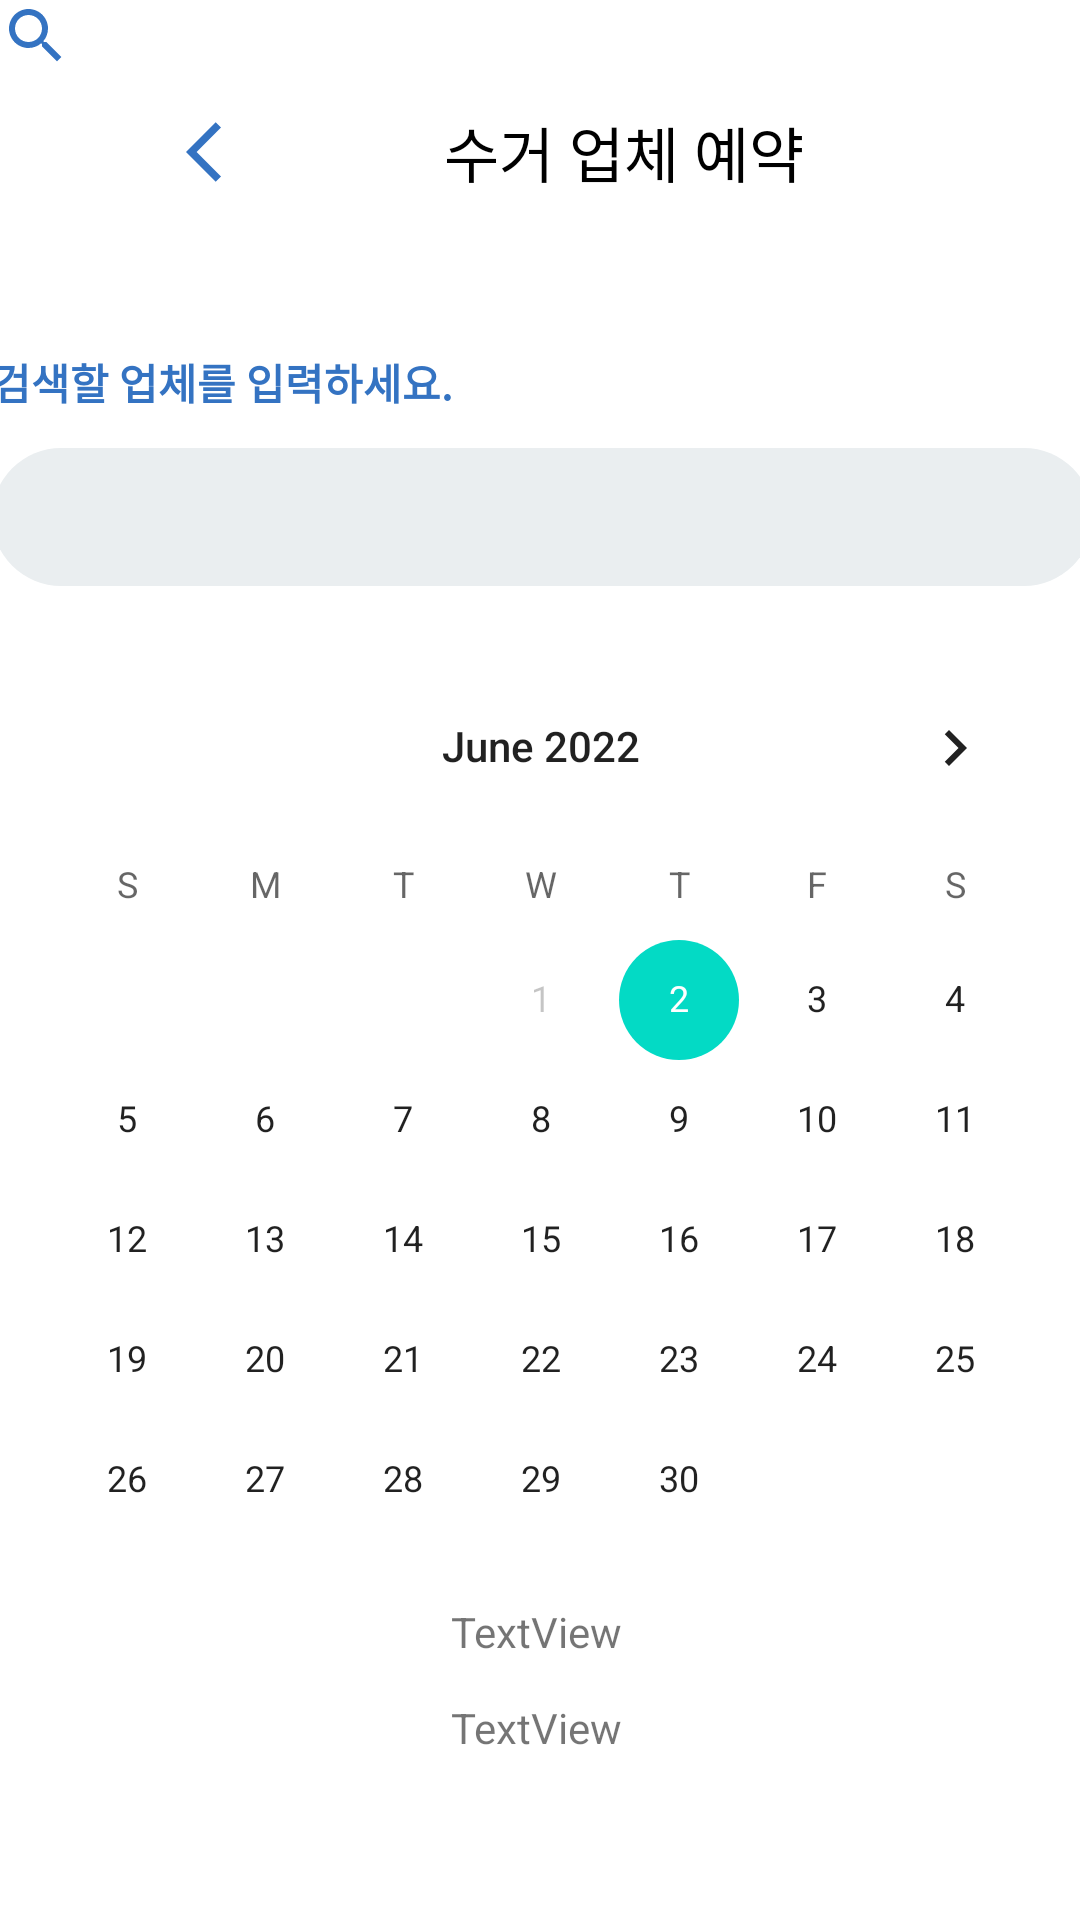

Icons on this 1080px x 1920px Android screen, each with the point to tap as point (x, y):
arrow back: point (203, 152)
search: point (35, 35)
